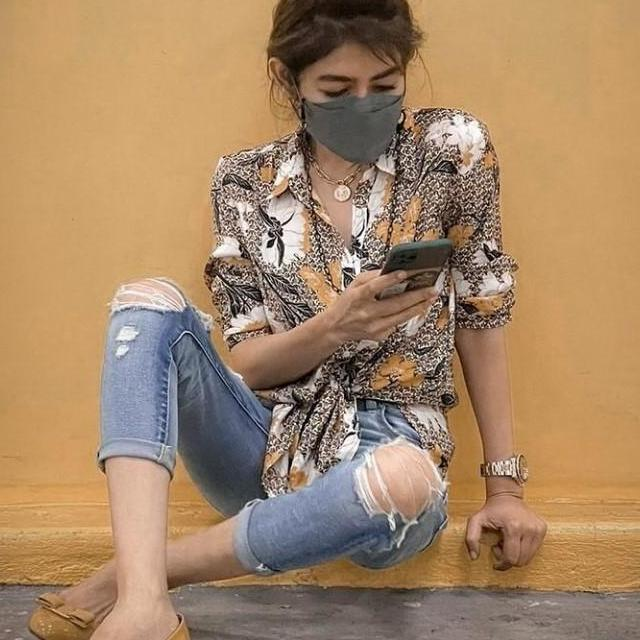Mask: (302, 94, 400, 161)
NO-Hardhat: (275, 0, 408, 64)
NO-Safety Vest: (247, 136, 462, 405)
Person: (24, 0, 548, 640)
